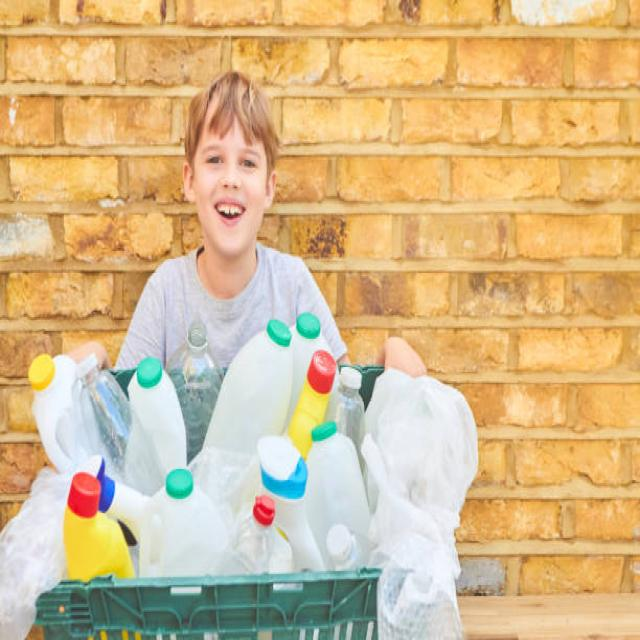plastic: (7, 312, 455, 599)
